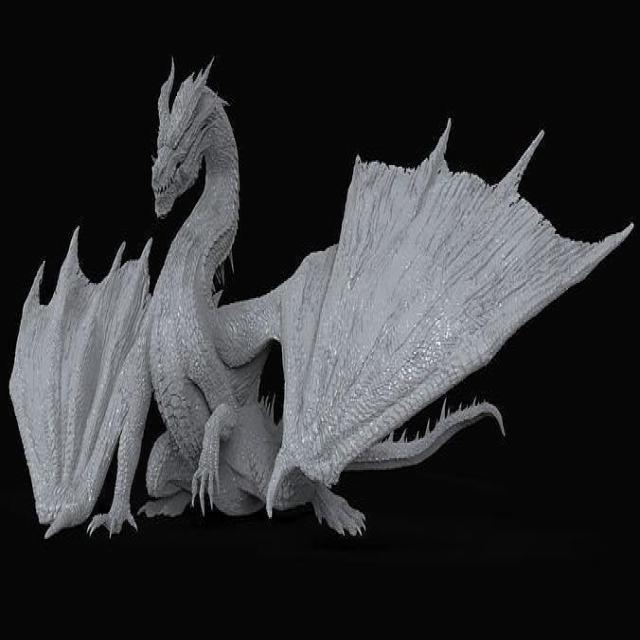Without deffect: (7, 24, 640, 591)
